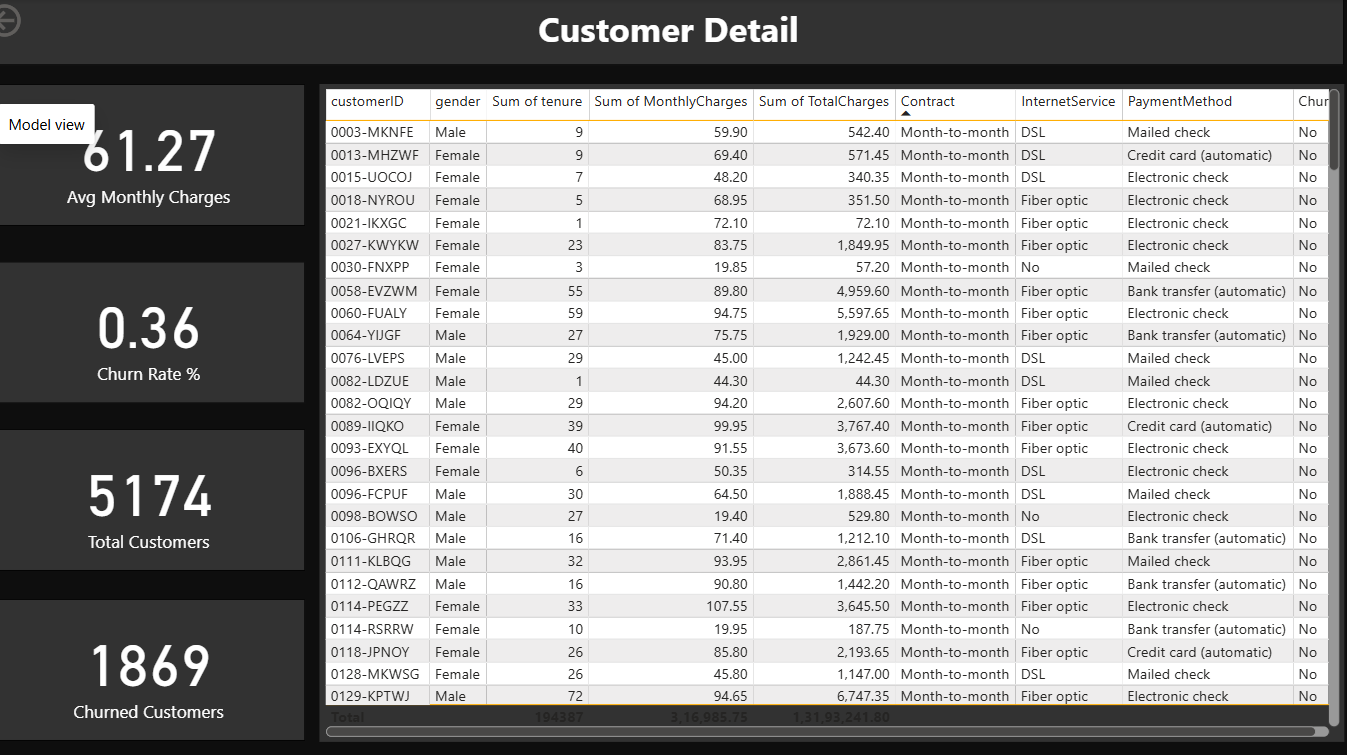

The page's visual inventory and layout, read from the dashboard file:
{"tool":"powerbi","page":{"name":"Page 4","canvas":[1280,720],"ordinal":3},"visuals":[{"type":"textbox","box":[9.5,0,1257.1,61.9],"z":0},{"type":"actionButton","box":[0,0,100,40],"z":1000},{"type":"card","fields":{"Values":["Customer Churn.Avg Monthly Charges"]},"box":[9.5,78.6,290.5,132.1],"z":2000},{"type":"card","fields":{"Values":["Customer Churn.Churn Rate %"]},"box":[9.5,244,290.5,132.1],"z":3000},{"type":"card","fields":{"Values":["Customer Churn.Total Customers"]},"box":[9.5,400,290.5,132.1],"z":4000},{"type":"card","fields":{"Values":["Customer Churn.Churned Customers"]},"box":[9.5,558.3,290.5,132.1],"z":5000},{"type":"tableEx","fields":{"Values":["Customer Churn.customerID","Customer Churn.gender","Sum(Customer Churn.tenure)","Sum(Customer Churn.MonthlyCharges)","Sum(Customer Churn.TotalCharges)","Customer Churn.Contract","Customer Churn.InternetService","Customer Churn.PaymentMethod","Customer Churn.Churn"]},"box":[313.1,78.6,953.6,611.9],"z":6000},{"type":"actionButton","box":[0,0,100,40],"z":7000}]}

Visuals, with their boxes on the page's 1280x720 design canvas (x1, y1, x2, y2). These are canvas units, not pixel positions in the 1347x755 screenshot, which may show the page scaled, cropped or inside an application window:
textbox: region(10, 0, 1267, 62)
actionButton: region(0, 0, 100, 40)
card - Customer Churn.Avg Monthly Charges: region(10, 79, 300, 211)
card - Customer Churn.Churn Rate %: region(10, 244, 300, 376)
card - Customer Churn.Total Customers: region(10, 400, 300, 532)
card - Customer Churn.Churned Customers: region(10, 558, 300, 690)
tableEx - Customer Churn.customerID x Customer Churn.gender: region(313, 79, 1267, 690)
actionButton: region(0, 0, 100, 40)
